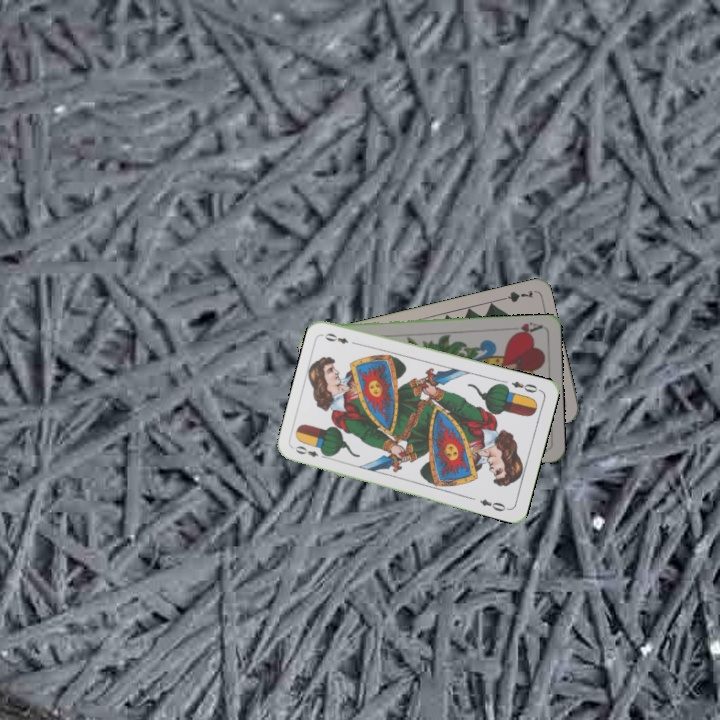EO: (291, 442, 330, 461), (507, 377, 543, 395)
G7: (495, 286, 536, 305)
HA: (506, 318, 545, 338)
